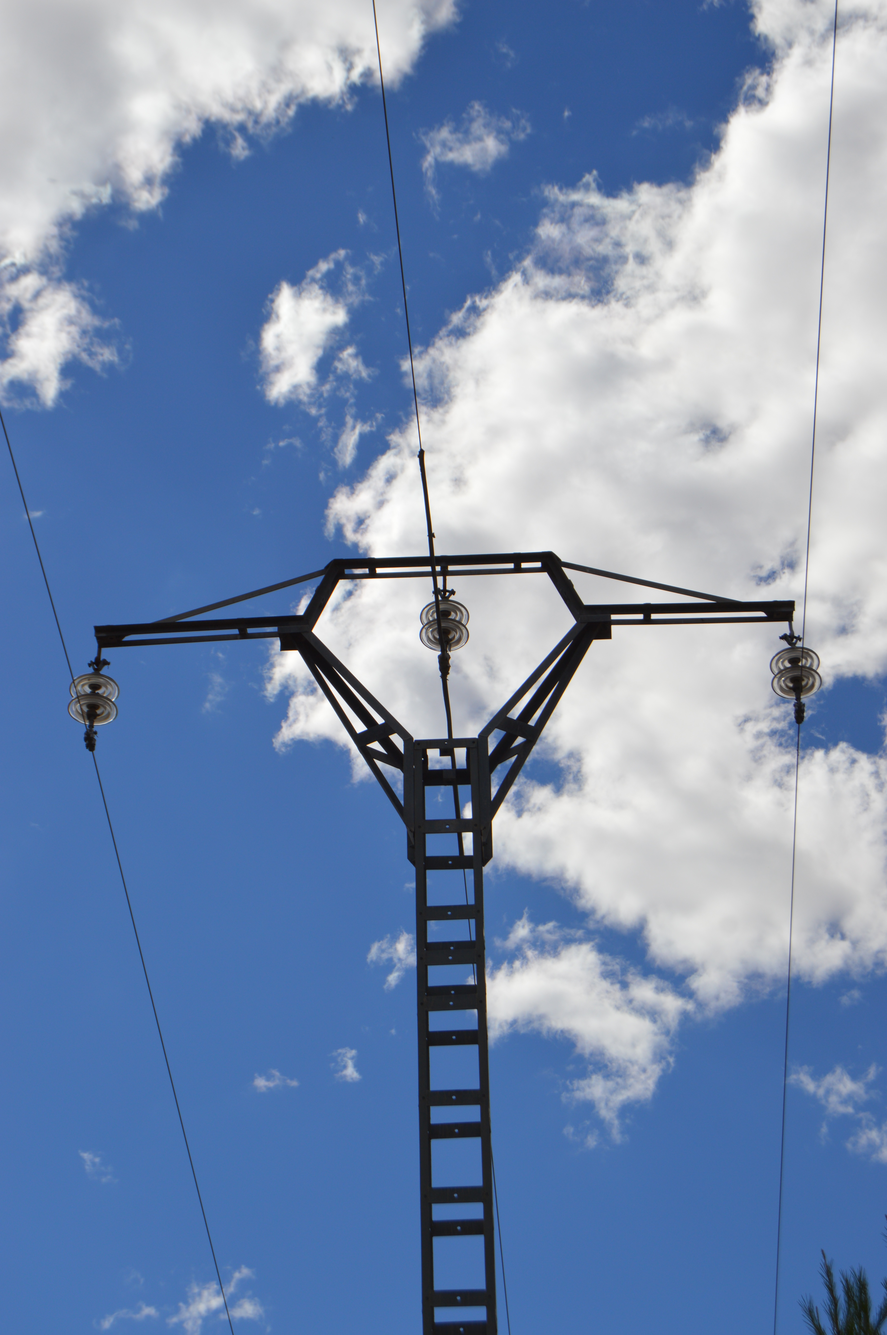insulator: (58, 650, 121, 739), (400, 585, 473, 661), (766, 637, 820, 709)
